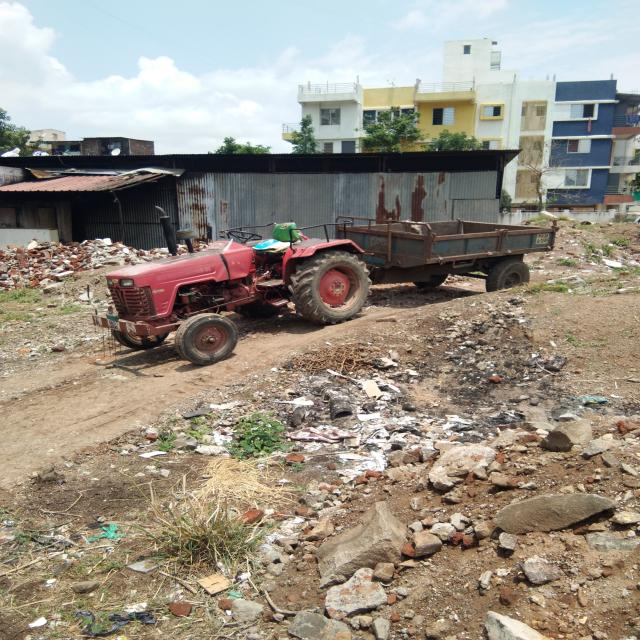Tractor: (110, 208, 569, 360)
